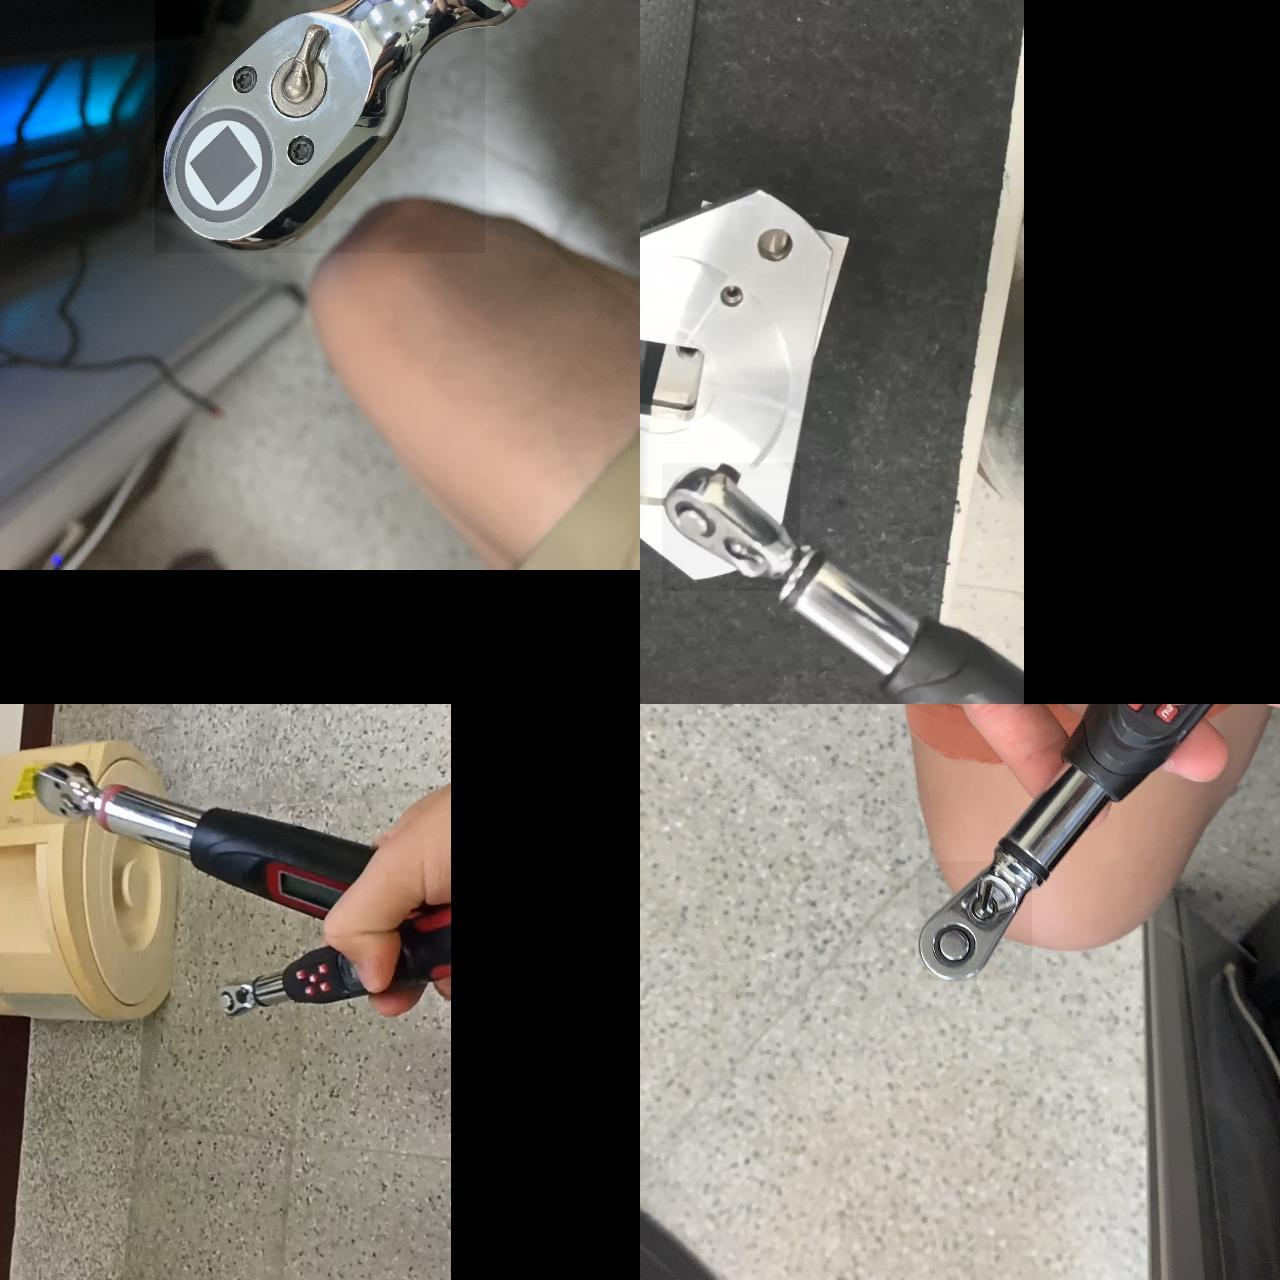Tool: (155, 0, 485, 252), (662, 462, 800, 590), (918, 860, 1032, 980), (33, 759, 95, 823), (216, 974, 260, 1022)
